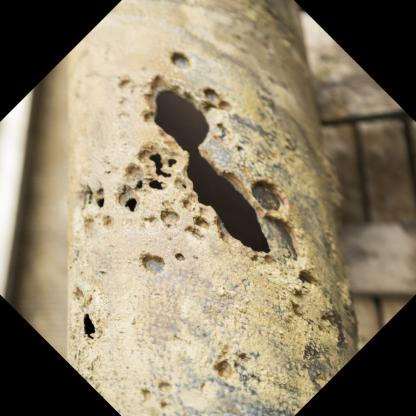burst: (150, 90, 280, 260)
